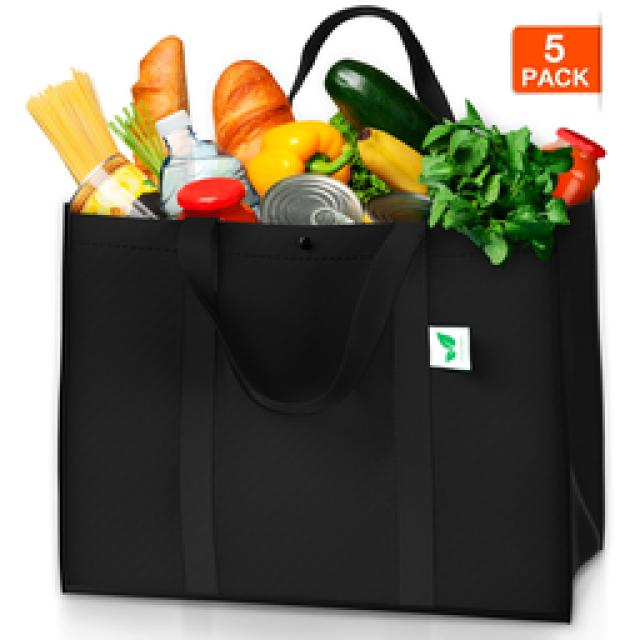plastic: (62, 200, 602, 620)
